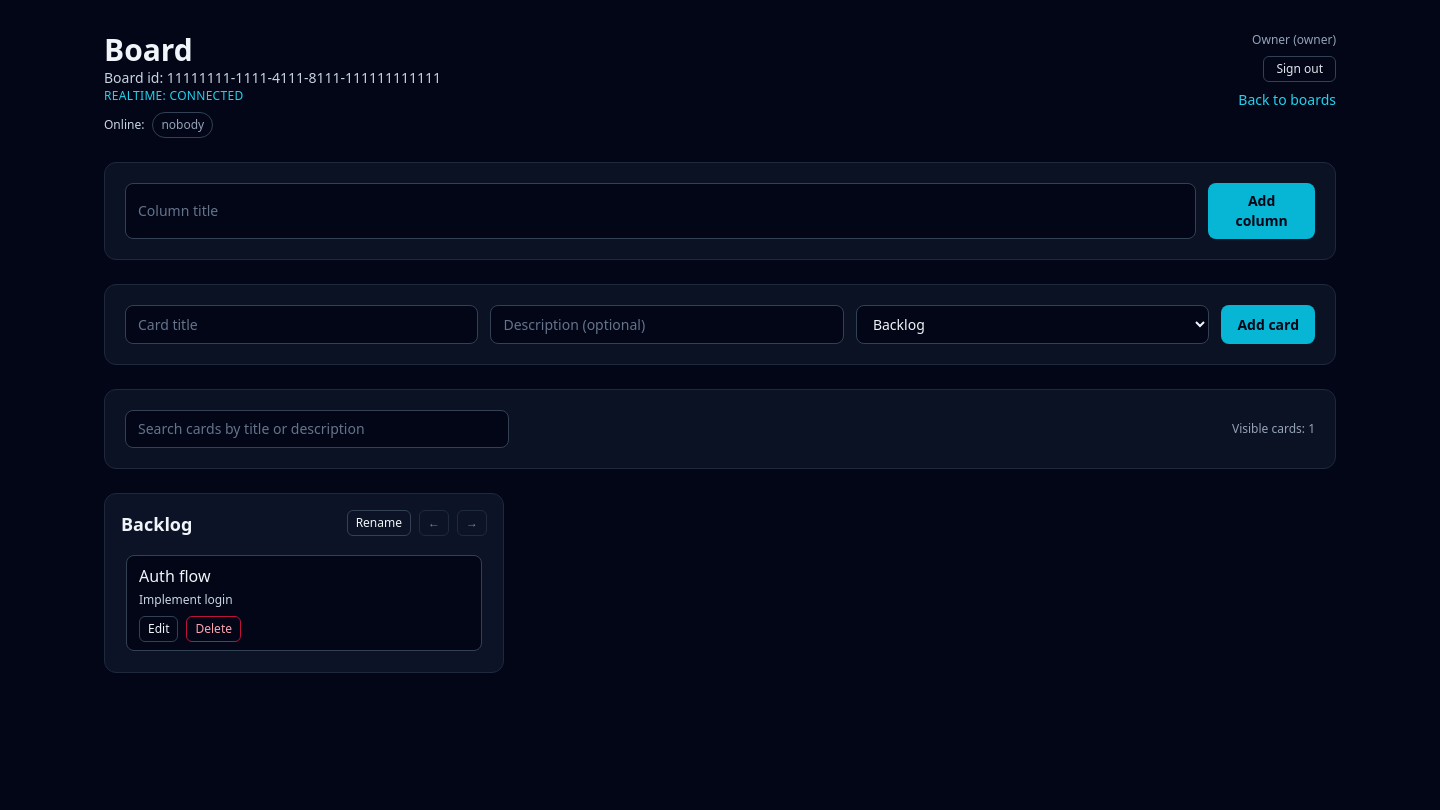
it: BoardPage › shows no-results state when search does not match cards
Expected: the text "Auth flow" is shown, [139,565,210,587]
Type "nomatch" into the field labelled "Search cards".
click(317, 429); type("nomatch")  # box [125,410,509,448]
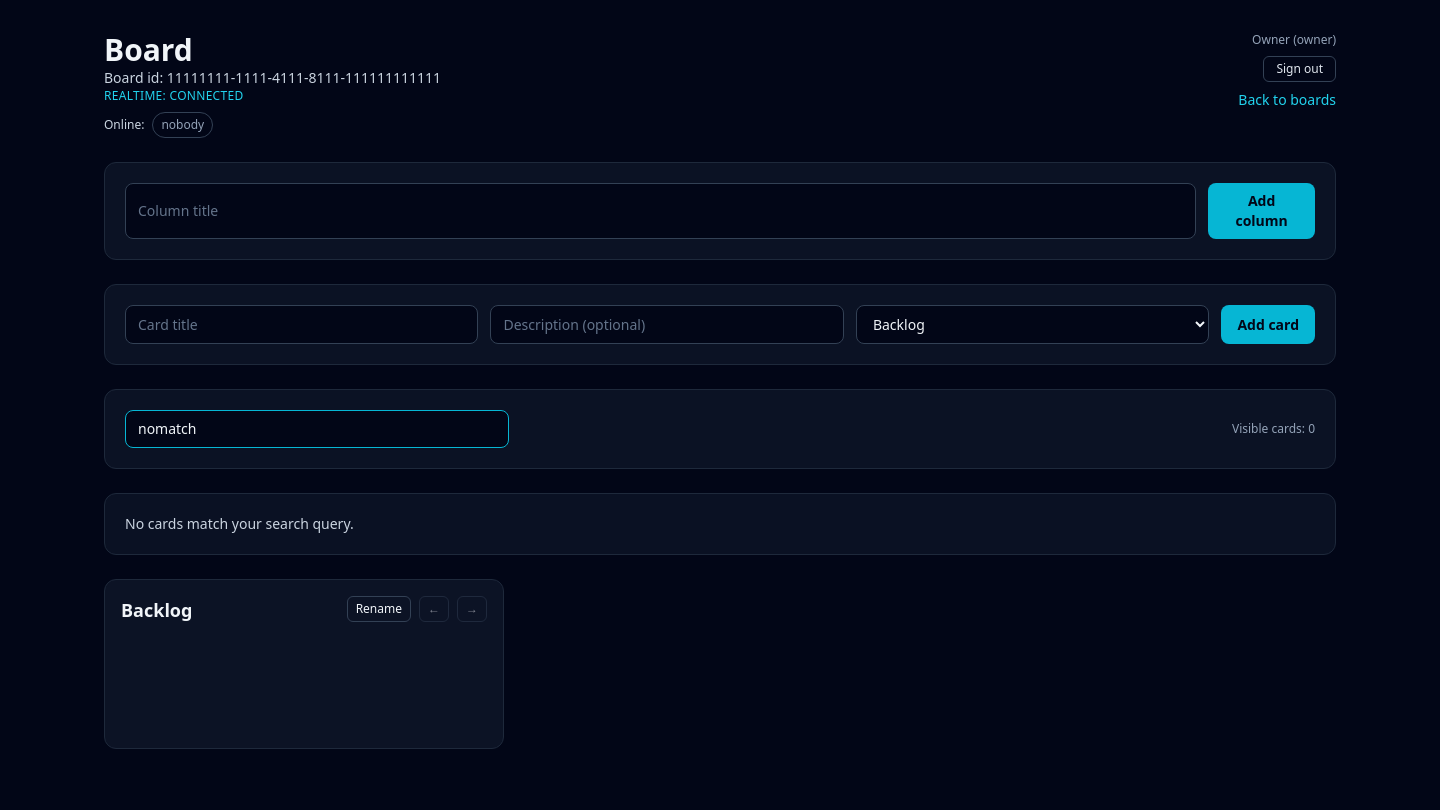
Expected: the text "No cards match your search query." is shown, [125,514,354,533]
